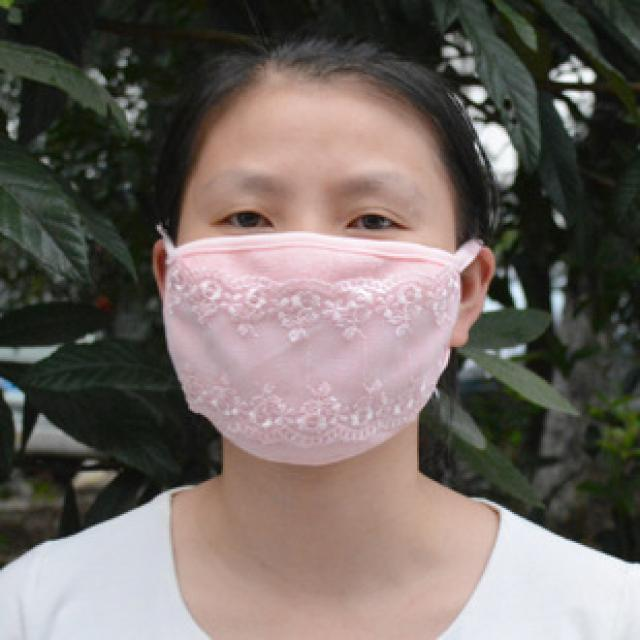mask: (169, 82, 450, 442)
